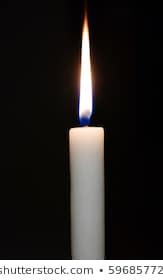fire: (75, 9, 95, 121)
